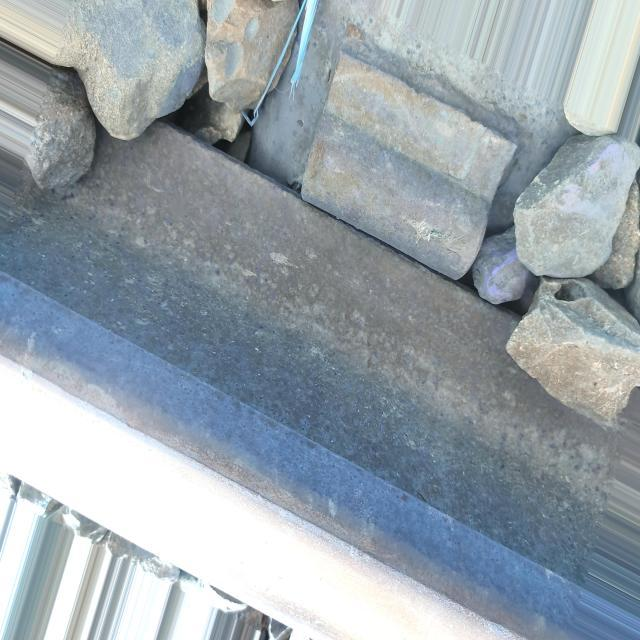Missing Fastener: (290, 48, 518, 278)
